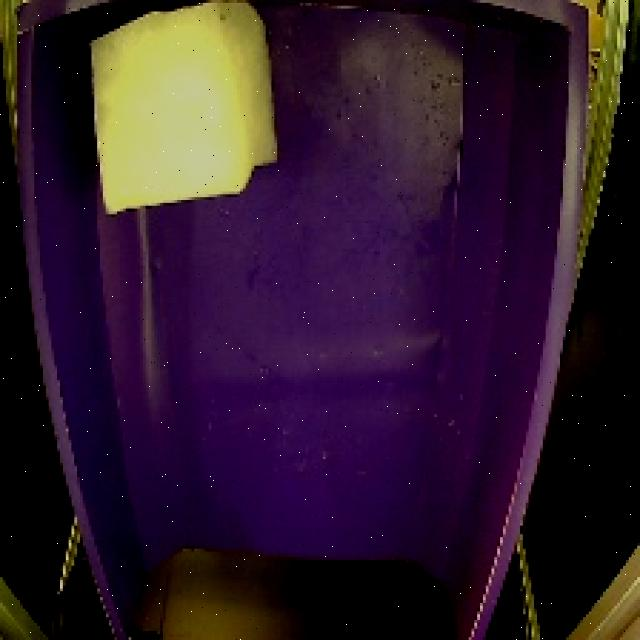white_radish: (70, 0, 289, 240)
